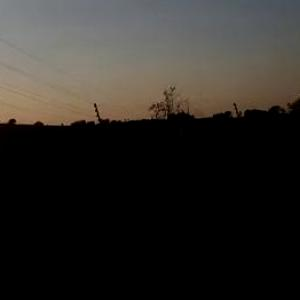follow: (158, 107, 240, 298)
